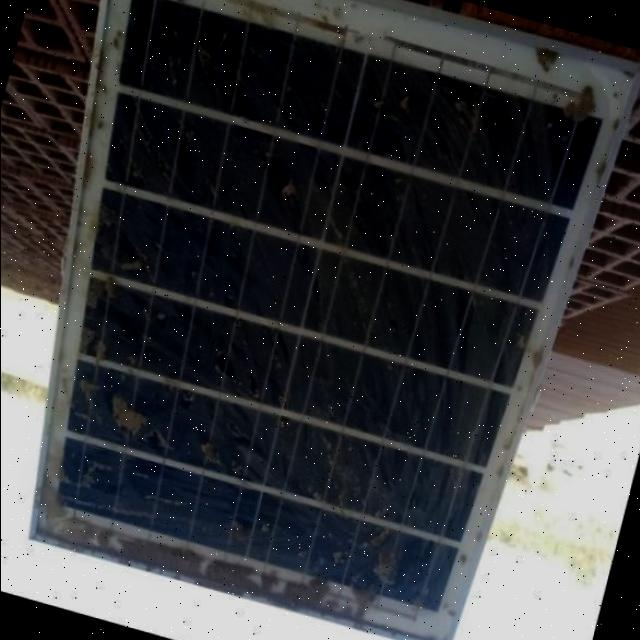Surface Contaminant: (33, 0, 599, 629)
